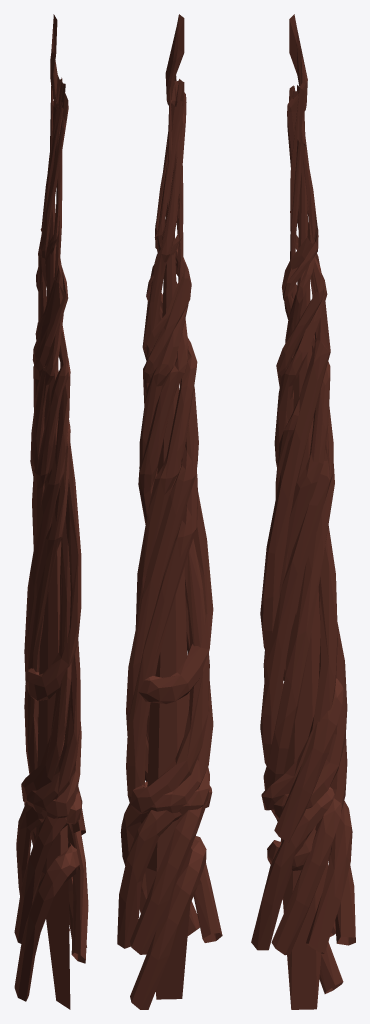
The model's file is sword.fbx.
3 renders of one model, left to right at view 1: azimuth 90°, elevation 25°; view 2: azimuth 150°, elevation 25°; view 3: azimuth 330°, elevation 25°, orthographic.
Visible parts, largest first — view 1: BezierCurve.005; view 2: BezierCurve.005; view 3: BezierCurve.005.
Boxes of the visible parts, left/top/right/bottom form: BezierCurve.005: left=14, top=14, right=88, bottom=1009; BezierCurve.005: left=117, top=14, right=222, bottom=1009; BezierCurve.005: left=251, top=14, right=355, bottom=1009.
Bounding box in the file's own units: 31.68 × 392 × 26.32.
